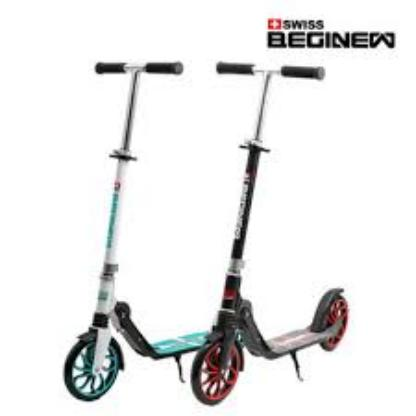bike: (63, 61, 355, 407), (189, 68, 350, 407)
